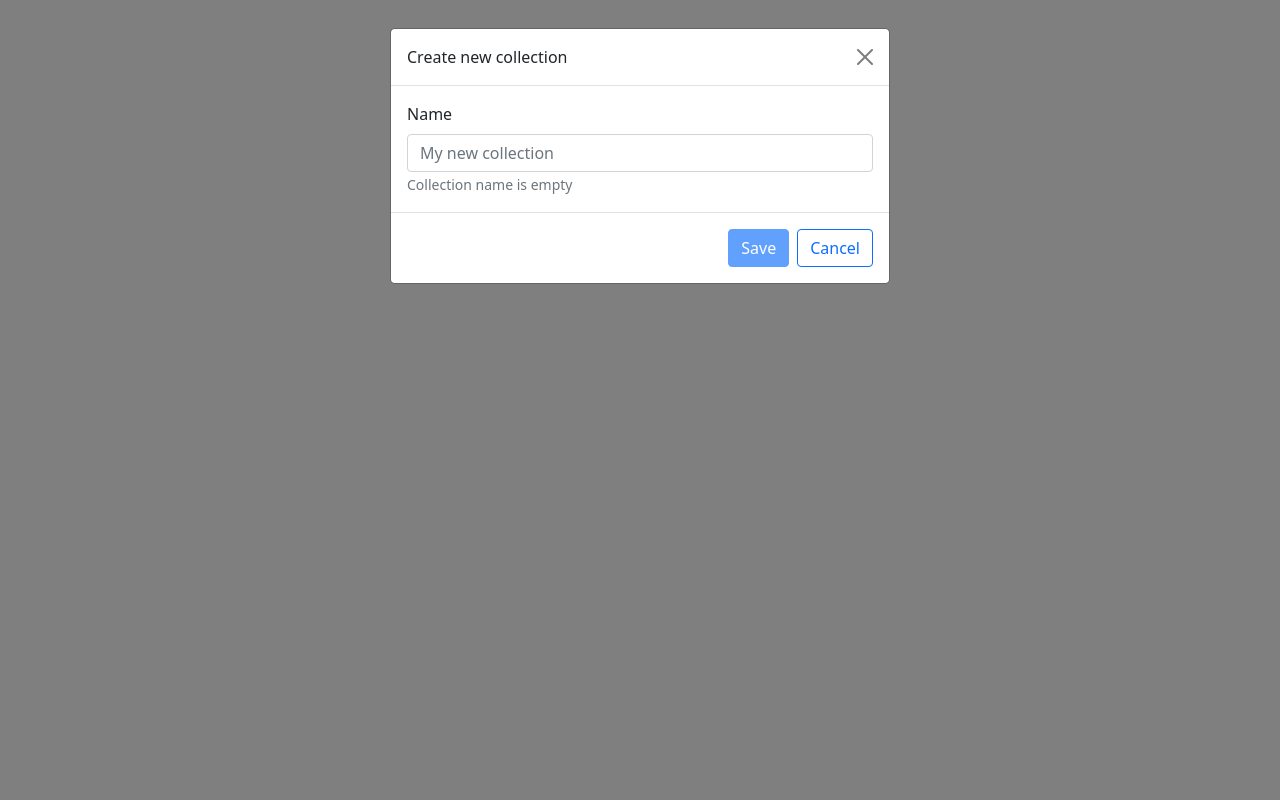
Test: Input validation tests › Non-empty name - "Save" button enabled, warning not shown
In the field labelled "Name": point(640, 153) [407,134,873,172], type "Non-empty name"
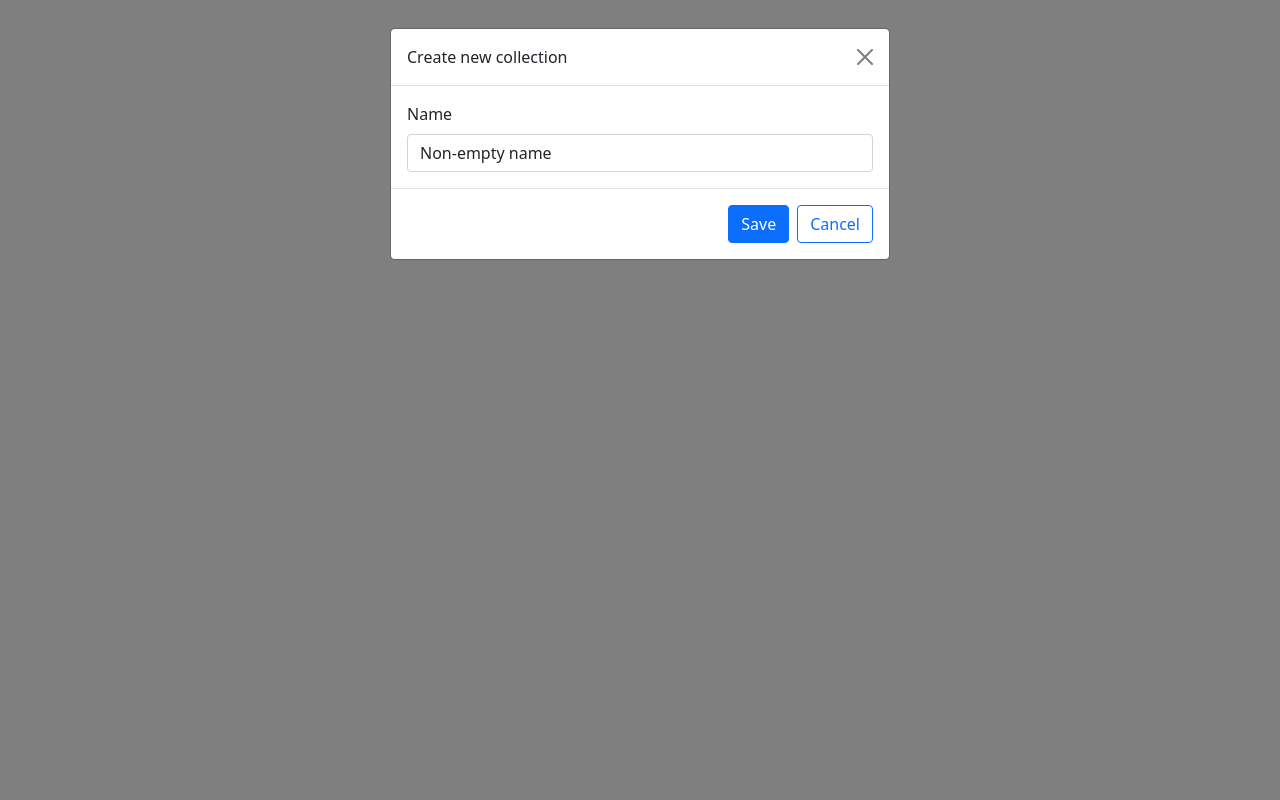
Expected: the button "Save" is enabled, [728,205,789,243]
Expected: the text "Collection name is empty" is gone
